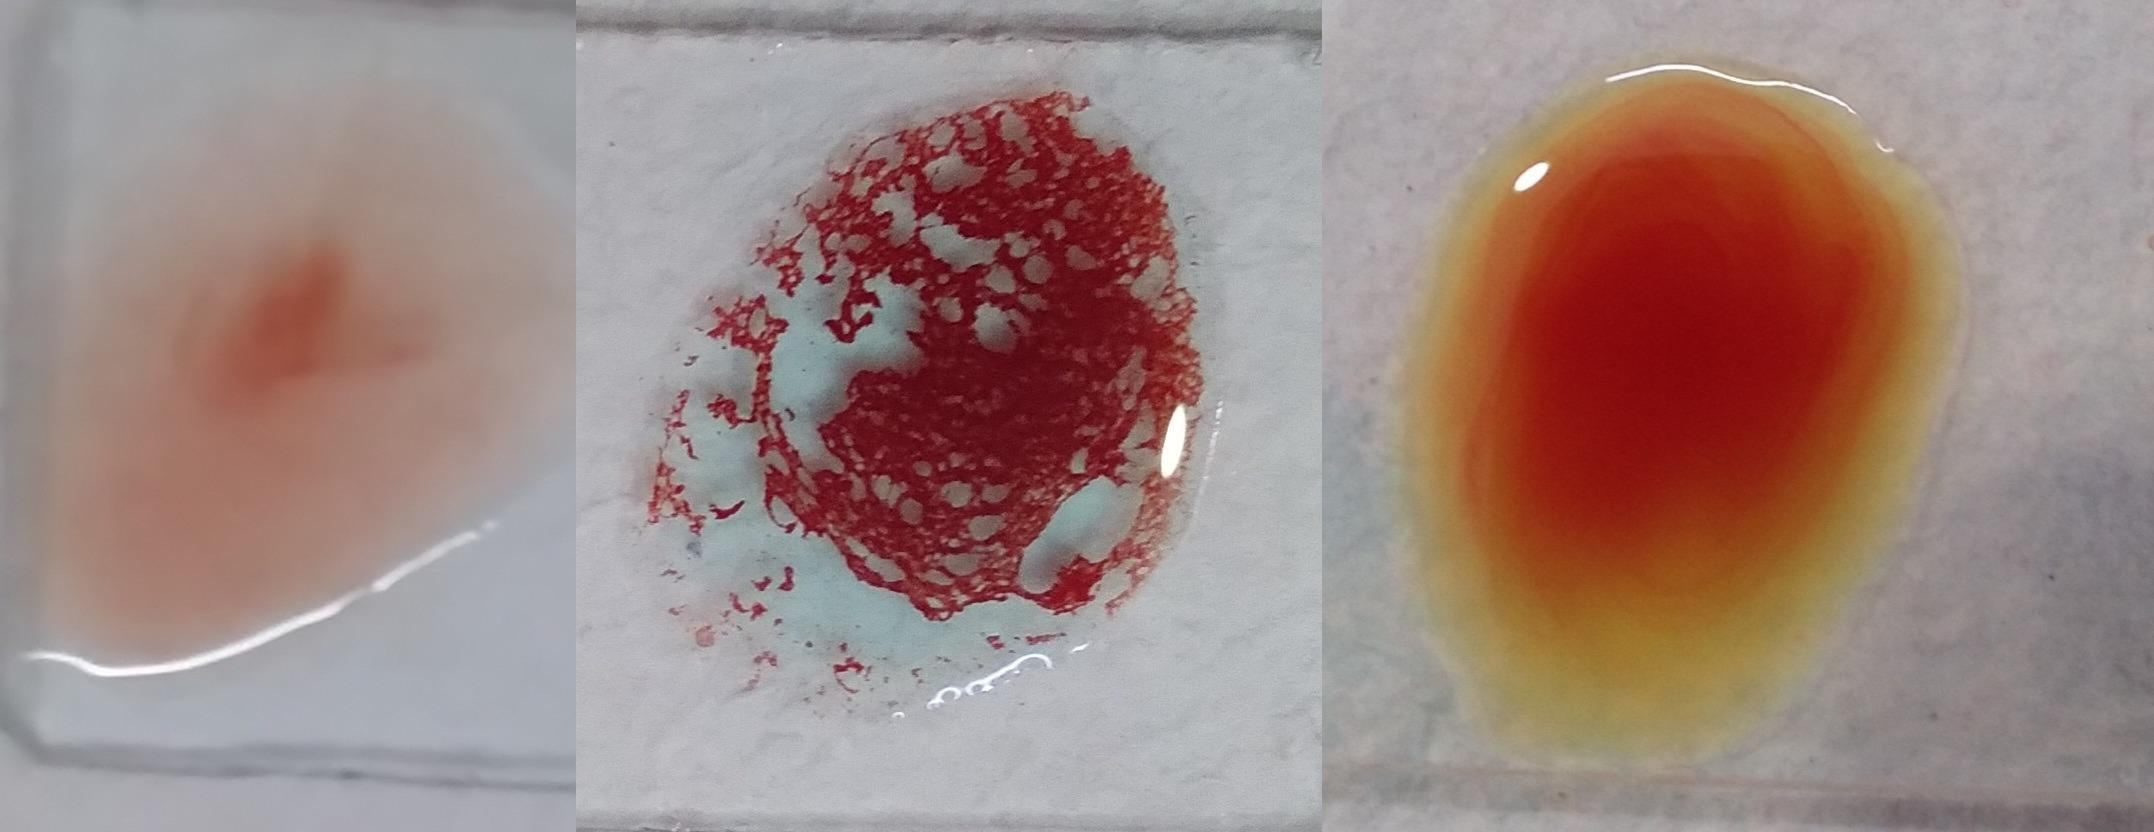A: (639, 88, 1217, 704)
